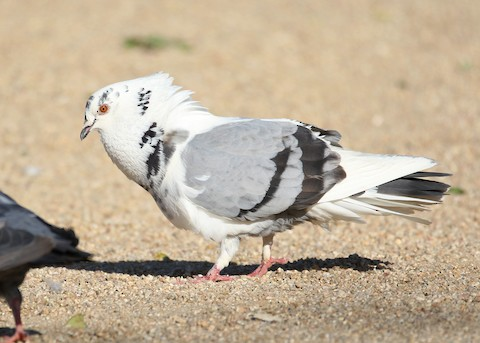pigeon: (73, 66, 465, 286)
